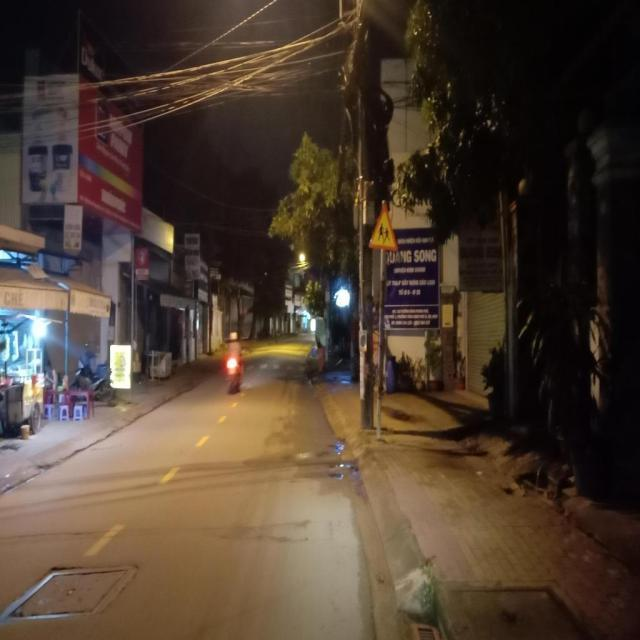225-chu-y-tre-em: (368, 204, 399, 252)
